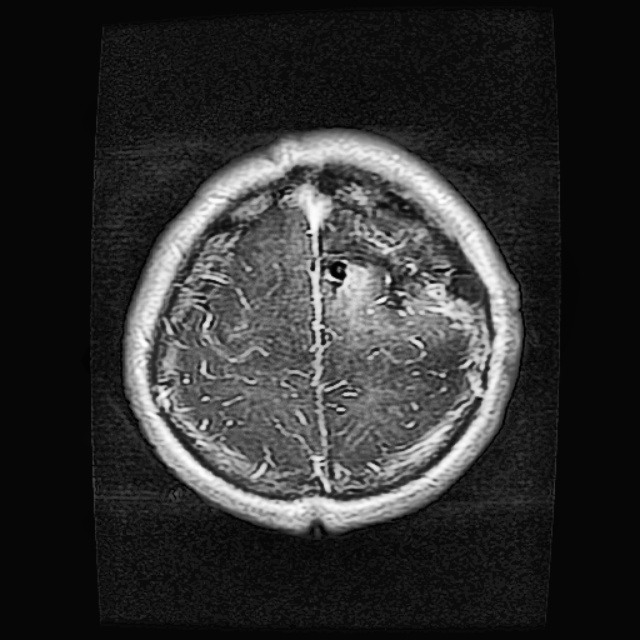Pituitary: (295, 169, 480, 308)
